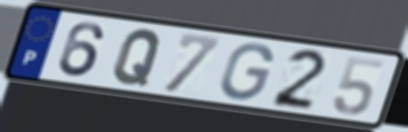2: (270, 47, 330, 113)
5: (331, 54, 387, 117)
6: (58, 20, 106, 79)
7: (166, 31, 224, 95)
G: (218, 41, 276, 103)
Q: (110, 27, 165, 88)
